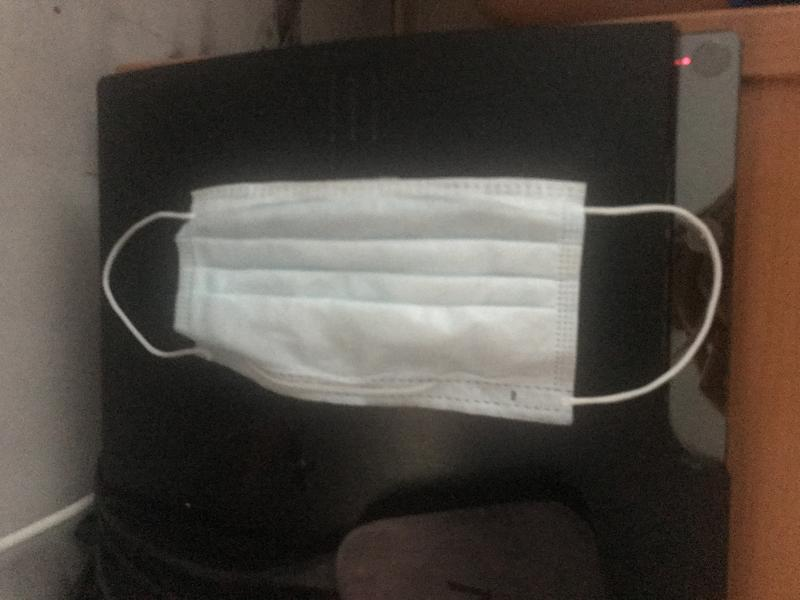medical_mask: (102, 177, 723, 424)
